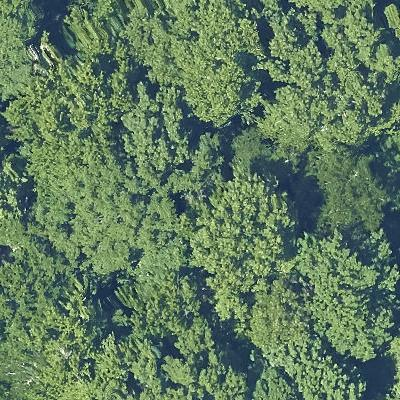tree-top: (40, 162, 181, 271), (190, 169, 298, 287), (160, 0, 257, 130), (303, 243, 400, 368), (7, 63, 120, 169), (0, 250, 101, 358), (257, 68, 377, 155), (112, 86, 193, 190), (325, 0, 400, 110), (37, 313, 122, 400), (307, 150, 390, 233), (119, 266, 210, 337), (319, 288, 397, 367), (243, 281, 317, 362), (275, 349, 372, 400), (266, 0, 328, 66), (62, 0, 128, 60), (157, 334, 225, 389), (112, 328, 169, 392), (202, 267, 258, 326), (0, 0, 45, 69), (196, 355, 256, 400), (167, 313, 219, 359), (250, 364, 297, 400), (160, 350, 203, 386), (0, 196, 28, 251), (384, 350, 400, 400), (382, 0, 400, 42)
